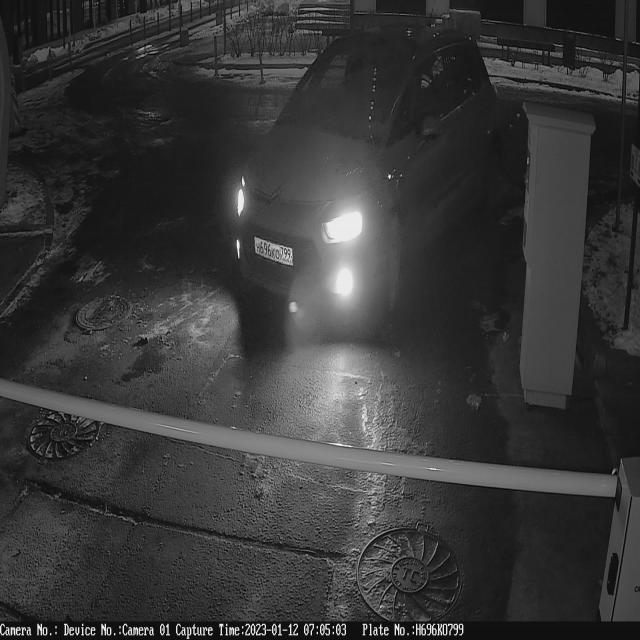car-plate-numbers: (249, 232, 298, 273)
